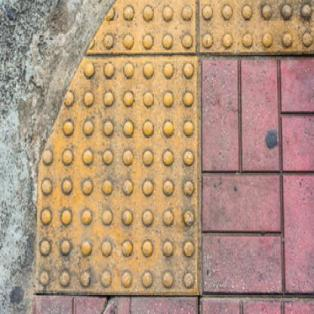Podoctatil: (39, 0, 312, 314)
